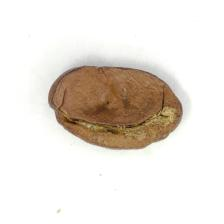NG: (60, 72, 175, 148)
